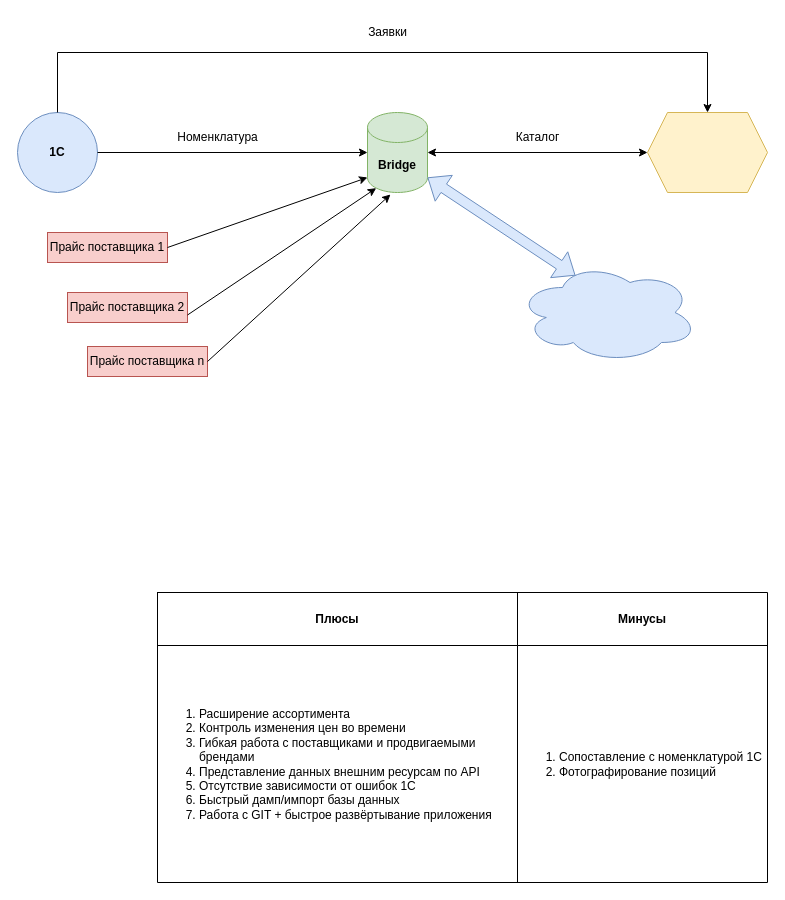
The diagram is 785 pixels wide and 900 high, and some of its shapes have lost their labels. The centre of each missing label's shape, as x and y in pixels:
интернет-магазин: the point at 707,152
Сторонние ресурсы: the point at 607,312
